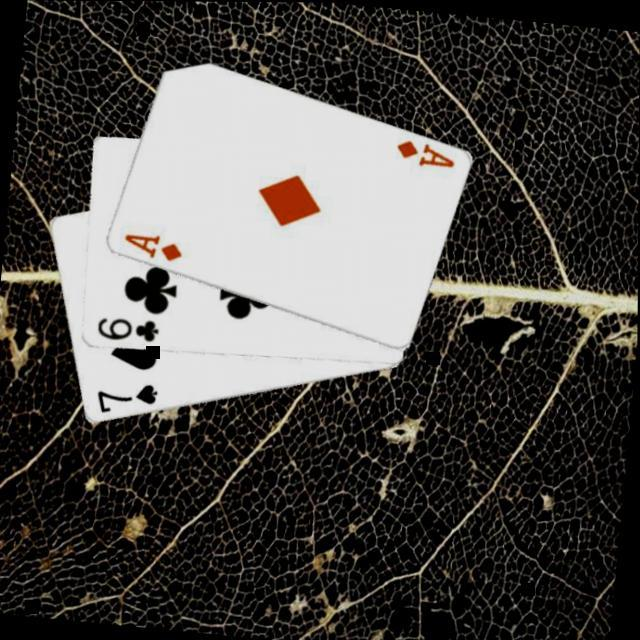6C: (94, 313, 163, 349)
7S: (93, 378, 163, 423)
AD: (393, 136, 460, 173), (121, 231, 187, 266)
